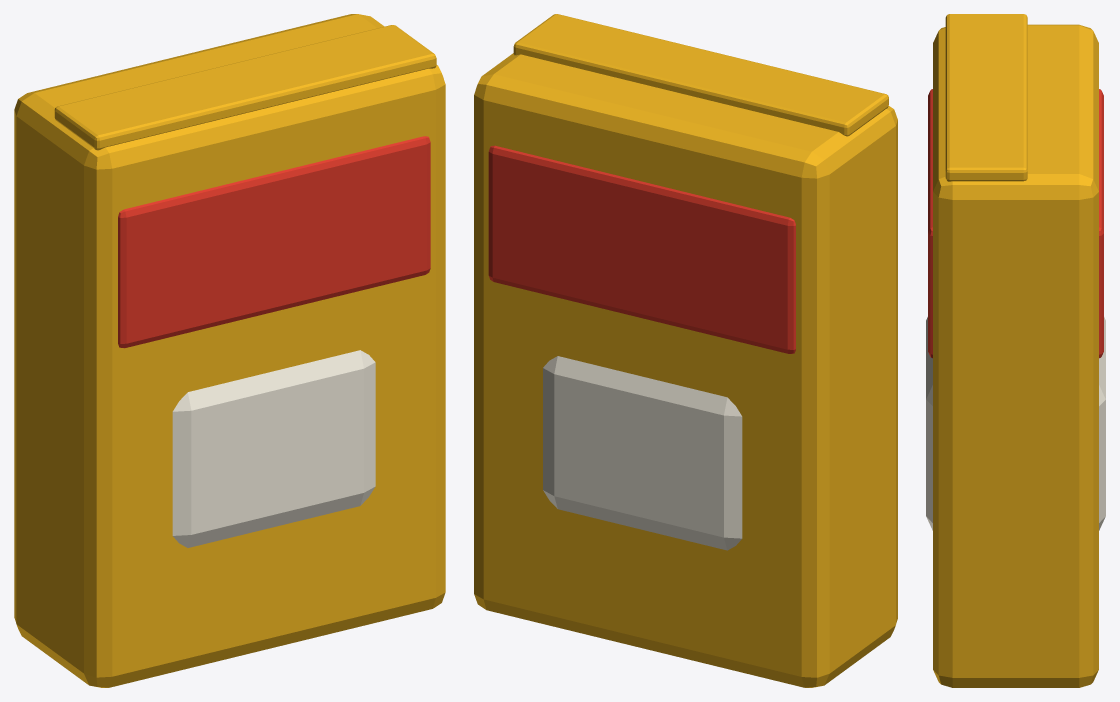
Rendered from cereal-box.glb.
3 views of the same model, side by side, from view 1: azimuth 30°, elevation 25°; view 2: azimuth 150°, elevation 25°; view 3: azimuth 270°, elevation 25° (orthographic). The views are drawn at different scales.
Parts seen in each view (by area): view 1: Carton, FrontBanner, FrontBowlBadge, TopFlap; view 2: Carton, FrontBanner, FrontBowlBadge, TopFlap; view 3: Carton, TopFlap, FrontBanner, FrontBowlBadge.
Boxes of the visible parts, x1,y1,x2,y2 form: Carton: (14, 14, 445, 687); FrontBanner: (118, 136, 430, 348); FrontBowlBadge: (172, 350, 375, 547); TopFlap: (54, 25, 436, 150); Carton: (474, 53, 897, 687); FrontBanner: (488, 145, 795, 353); FrontBowlBadge: (543, 356, 742, 550); TopFlap: (513, 14, 888, 136); Carton: (933, 24, 1098, 687); TopFlap: (945, 14, 1027, 181); FrontBanner: (928, 89, 1103, 358); FrontBowlBadge: (926, 317, 1105, 530).
Bounding box in the file's own units: 0.2 × 0.295 × 0.092.
